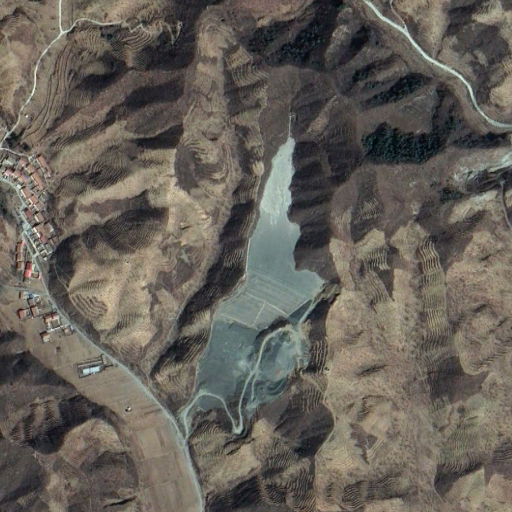tp: (220, 138, 330, 330)
